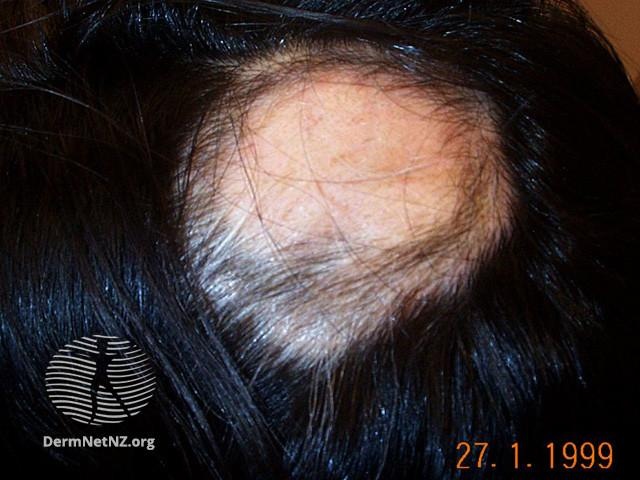Alopecia Areata: (196, 55, 497, 355)
